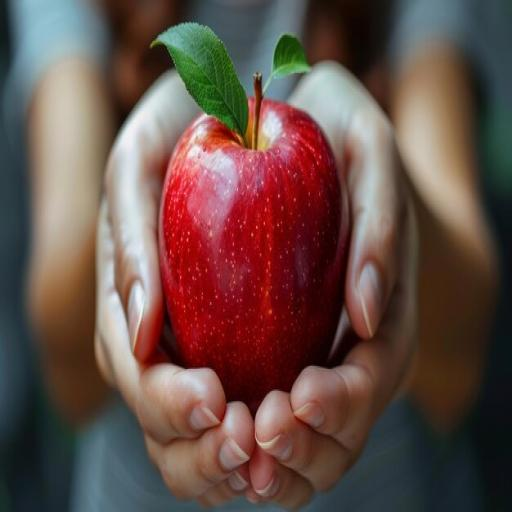apple: (159, 100, 349, 412)
